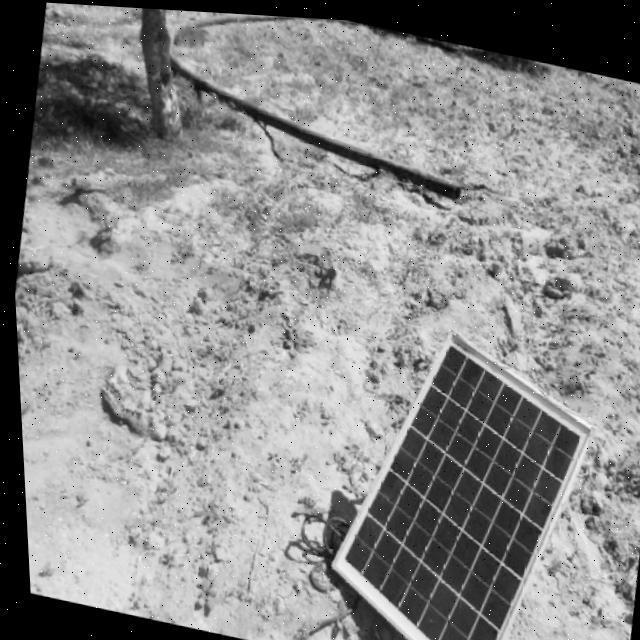Normal Solar Panel: (302, 303, 609, 640)
